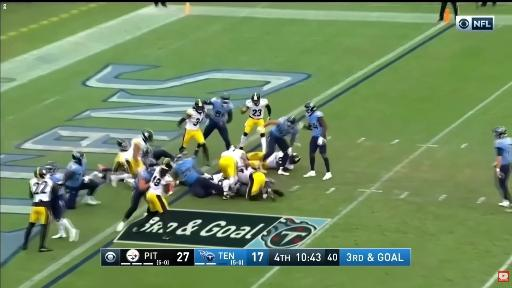Helmet: (72, 149, 85, 163), (116, 138, 130, 151), (146, 158, 159, 172), (46, 161, 59, 174), (162, 157, 173, 172), (34, 168, 47, 180), (142, 129, 154, 142), (285, 116, 297, 129), (305, 102, 316, 116), (220, 93, 230, 108), (288, 153, 300, 165), (194, 99, 204, 113), (251, 93, 261, 107), (176, 154, 184, 163)
Jersey: (155, 157, 201, 185), (148, 167, 173, 195), (210, 98, 233, 123), (30, 178, 53, 202), (271, 117, 298, 137), (66, 160, 86, 187), (494, 137, 512, 165), (202, 173, 229, 191), (125, 138, 147, 158), (246, 99, 268, 119), (221, 148, 245, 166), (307, 111, 323, 136), (113, 151, 132, 172), (186, 109, 205, 130), (134, 168, 154, 187), (266, 151, 283, 168), (238, 168, 255, 184), (202, 173, 224, 185), (48, 173, 64, 185)
Player: (22, 168, 59, 251), (134, 159, 175, 232), (117, 159, 157, 231), (44, 162, 79, 241), (171, 155, 223, 198), (303, 102, 331, 180), (262, 116, 298, 175), (98, 139, 143, 186), (178, 100, 210, 165), (65, 152, 100, 209), (240, 93, 271, 152), (203, 93, 233, 149), (238, 167, 283, 200), (493, 127, 511, 207), (126, 129, 153, 176), (219, 146, 249, 186), (111, 139, 133, 186), (202, 173, 229, 194), (262, 151, 283, 169)
